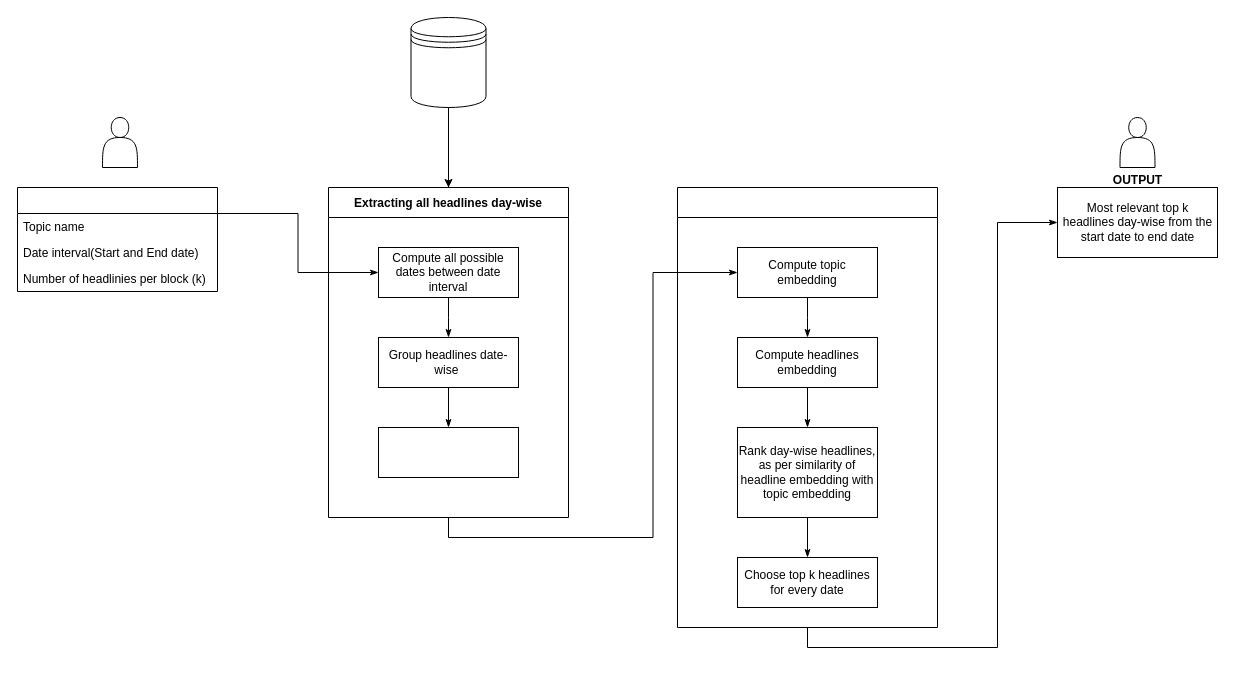
The diagram is 1235 pixels wide and 673 high, and some of its shapes have lost their labels. The shapes that lost their labels are listed below. From the top down, each one's box as (x1, y1, x2, y2) in pixels, then its label:
(410, 16, 486, 108): TOI headline dataset
(16, 186, 218, 292): Input Parameters
(676, 186, 938, 628): Choosing top k headlines, semantically similar to Topic name
(378, 426, 518, 478): Remove duplicate headlines
